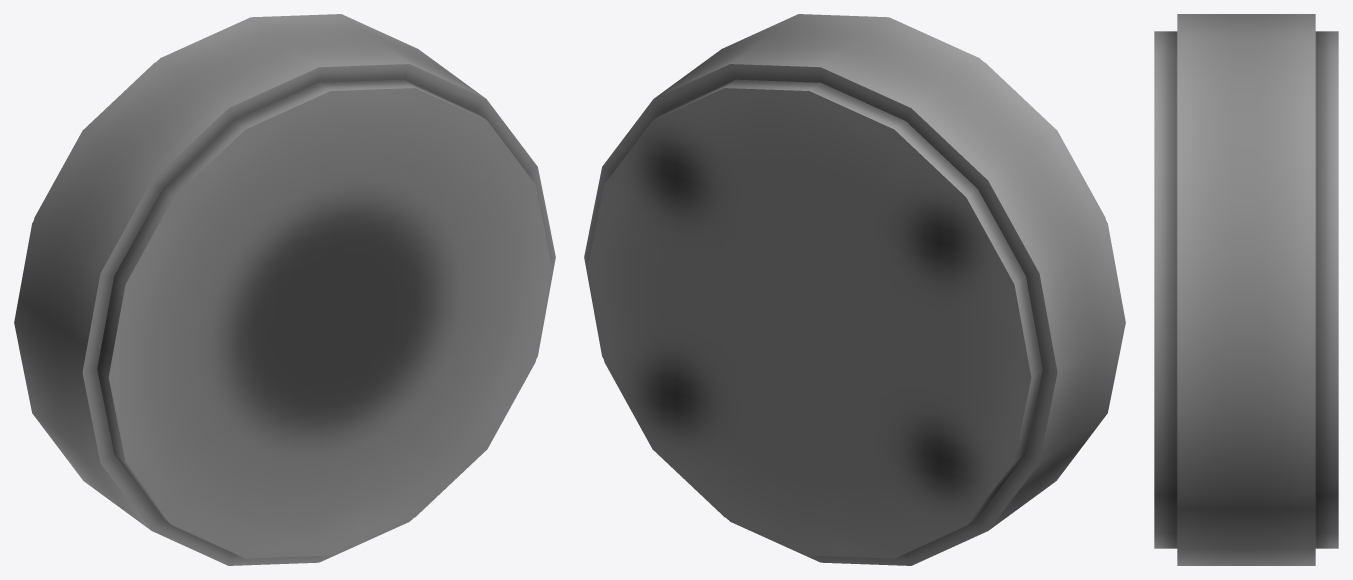
The model's file is Eridani_SolarDorsal_1_Pivot_1.obj.
3 renders of one model, left to right at view 1: azimuth 30°, elevation 25°; view 2: azimuth 150°, elevation 25°; view 3: azimuth 270°, elevation 25°, orthographic.
Parts seen in each view (by area): view 1: Eridani_SolarDorsal_1_Pivot_1; view 2: Eridani_SolarDorsal_1_Pivot_1; view 3: Eridani_SolarDorsal_1_Pivot_1.
Part boxes in pixels (left/top/right/bottom): Eridani_SolarDorsal_1_Pivot_1: left=14, top=14, right=555, bottom=565; Eridani_SolarDorsal_1_Pivot_1: left=584, top=14, right=1125, bottom=565; Eridani_SolarDorsal_1_Pivot_1: left=1154, top=14, right=1338, bottom=565.
Size of the model in its own units: 0.24 by 0.24 by 0.08.
